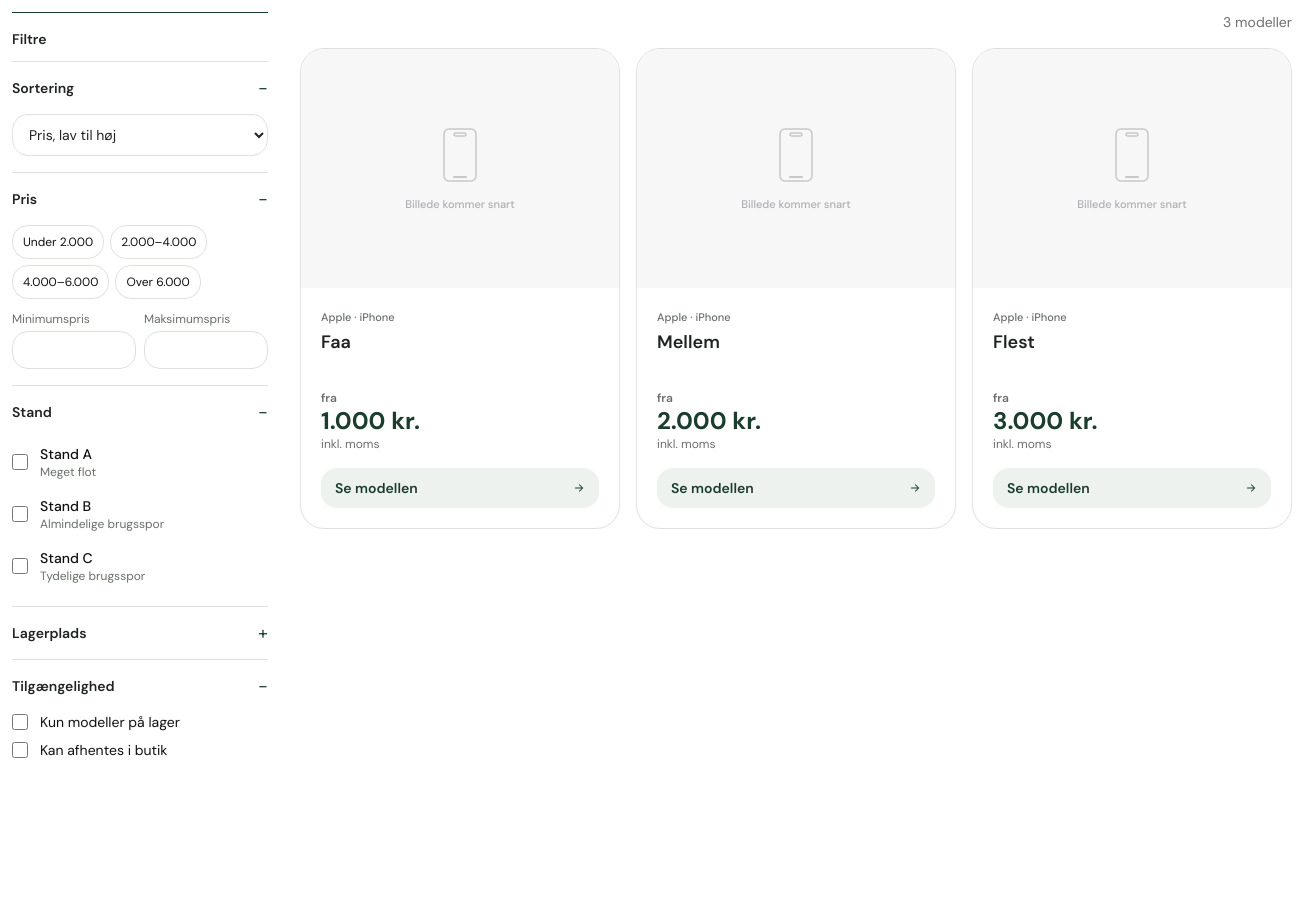
it: FilteredGrid › sorts by the selected meaning and resets to the complete catalogue
This screenshot has width=1304, height=912.
Select "Flest på lager" in the dropdown named "Sortering": x=140, y=135 x1=12 y1=114 x2=268 y2=156
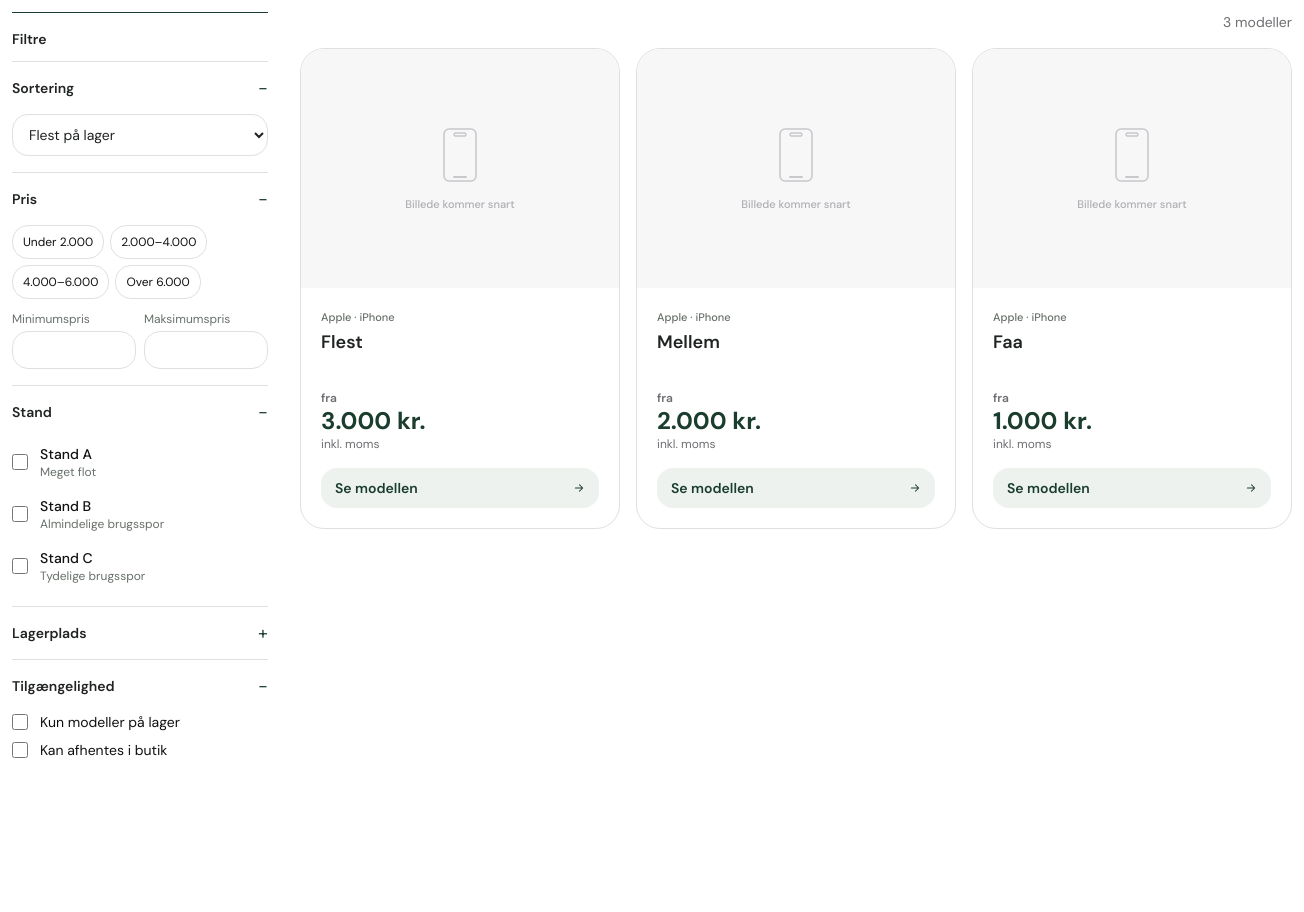
In the field labelled "Maksimumspris": x=206, y=350 x1=144 y1=331 x2=268 y2=369, type "1500"
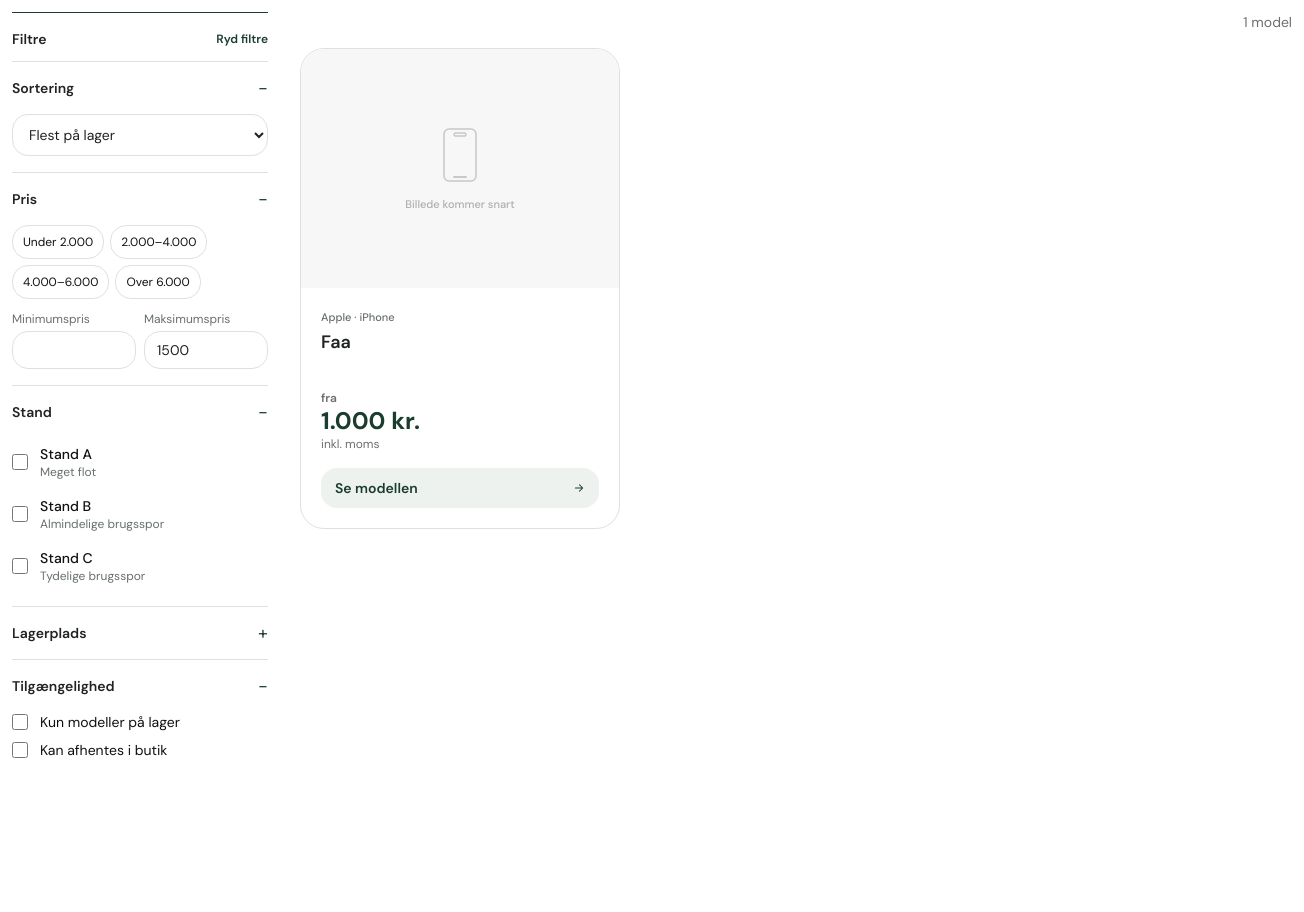
Click the button "Ryd filtre": x=242, y=39 x1=216 y1=31 x2=268 y2=47
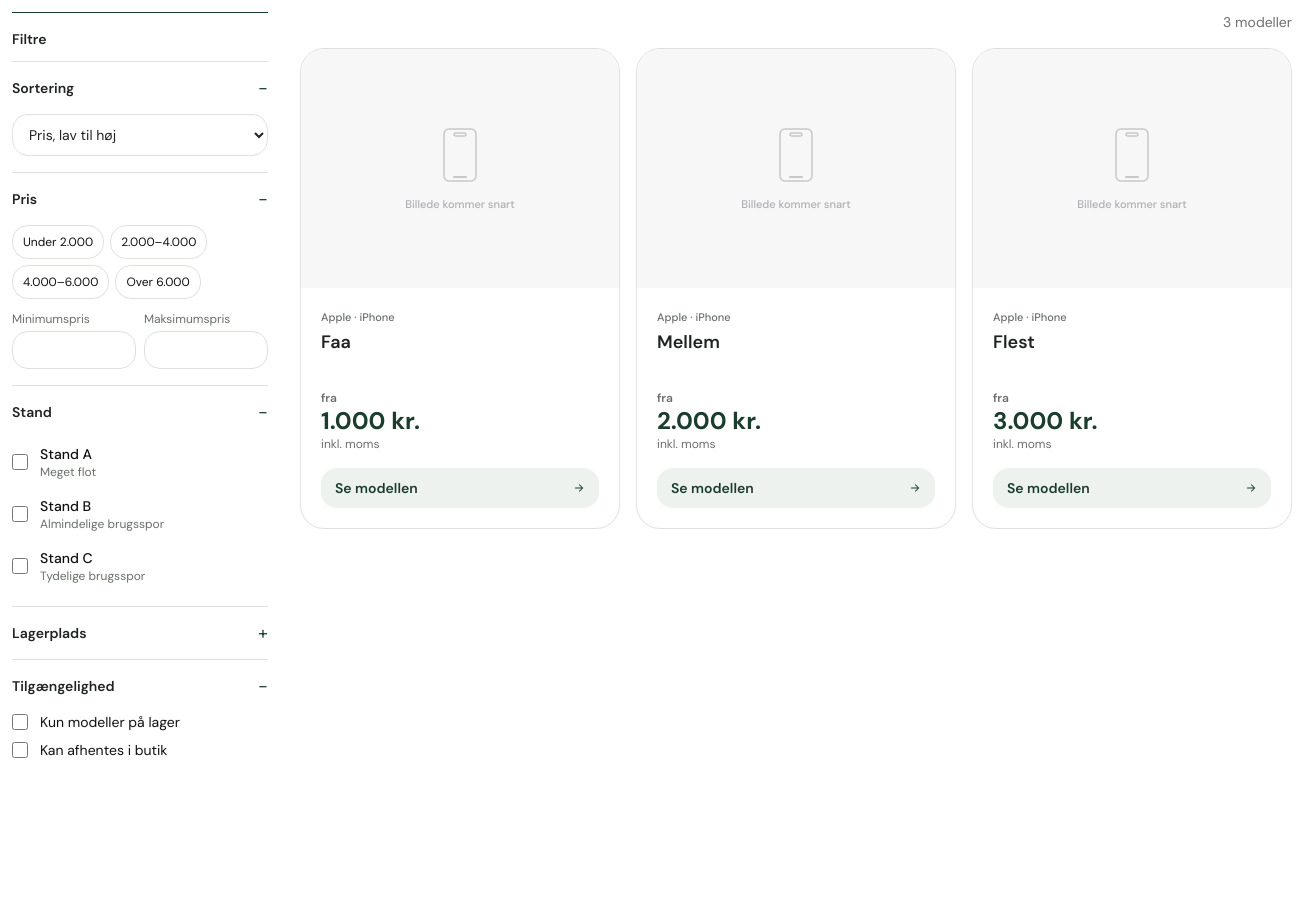
Now the heading "Flest" is shown, box x1=993 y1=330 x2=1035 y2=354
